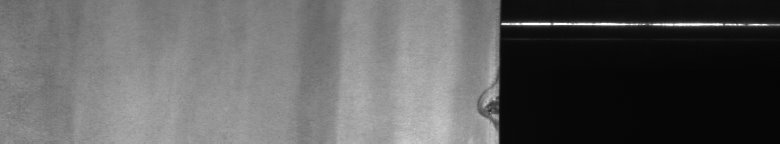hb: (472, 84, 488, 128)
